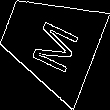M_NW: (21, 11, 79, 73)
